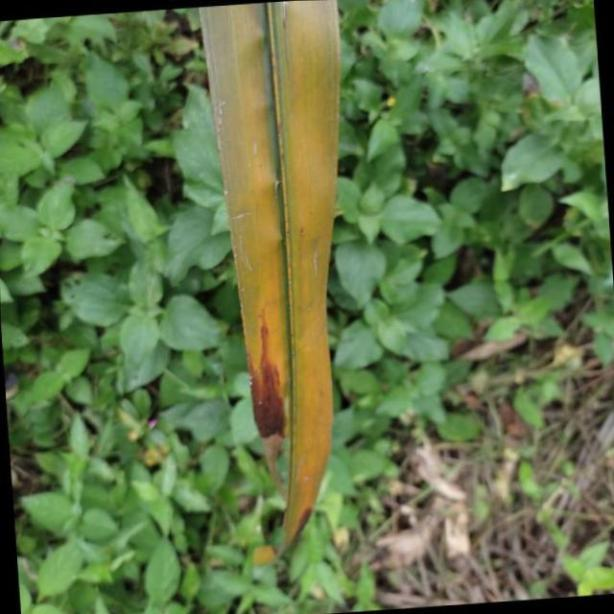Megnesium: (200, 0, 343, 562)
